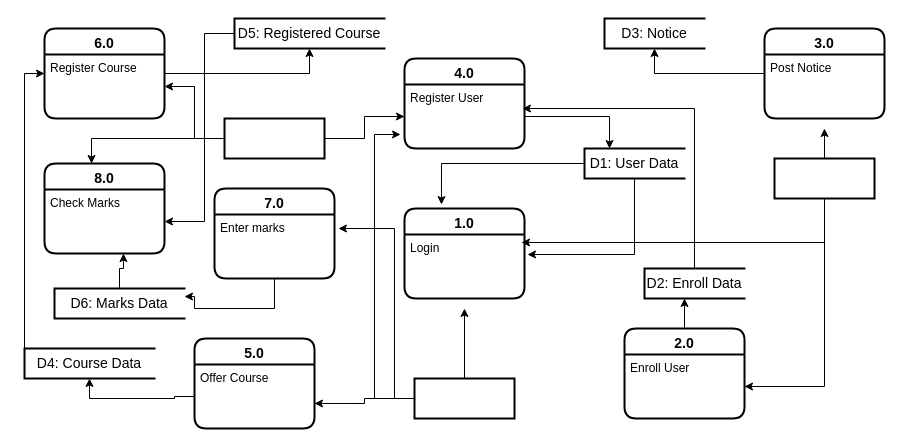
Some shapes in this 903 by 448 pixel diagram are drawn without their labels. The centre of each missing label's shape, as x and y in pixels:
"Administrator" belongs at pixel 824 178.
"Professor" belongs at pixel 464 398.
"Student" belongs at pixel 274 138.
